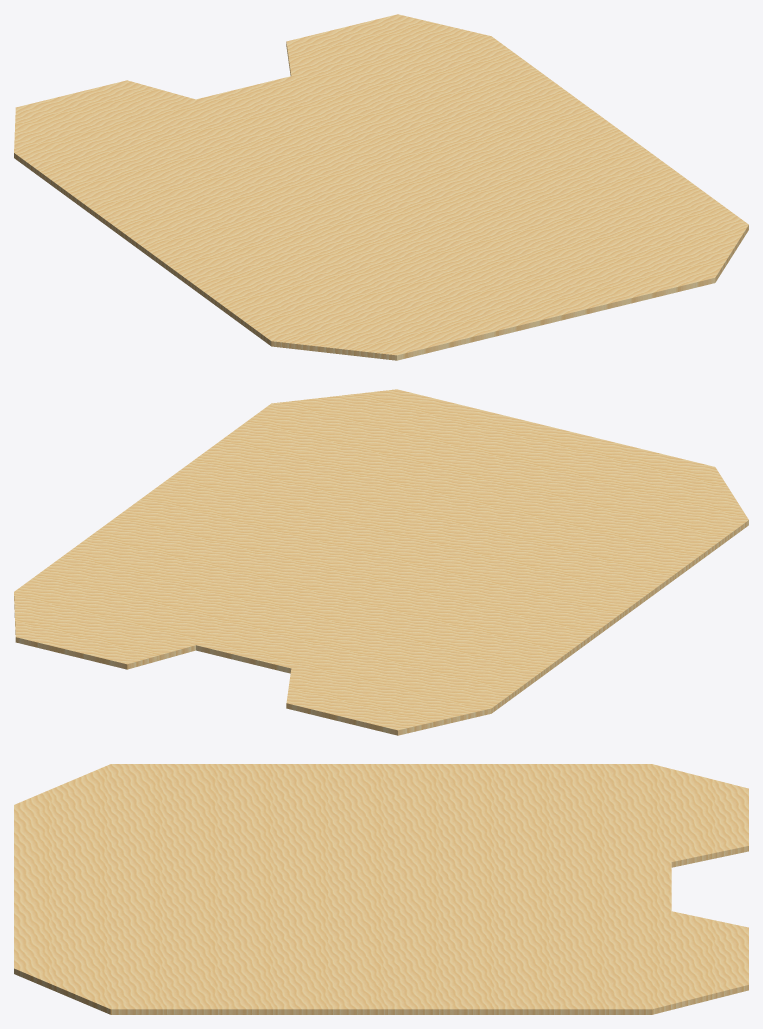
The model's file is seabed-09-vynSPUG_.glb.
3 renders of one model, top to bottom at view 1: azimuth 30°, elevation 25°; view 2: azimuth 150°, elevation 25°; view 3: azimuth 270°, elevation 25°, orthographic. The views are drawn at different scales.
Parts seen in each view (by area): view 1: SW_SandShelf; view 2: SW_SandShelf; view 3: SW_SandShelf.
Boxes of the visible parts, box(x1,y1,x2,y2) form: SW_SandShelf: box(14, 14, 748, 360); SW_SandShelf: box(14, 389, 748, 735); SW_SandShelf: box(14, 764, 748, 1014).
Size of what is drawn, in the model's own units: 30 by 0.32 by 38.
Materials: 1 (1 with a texture image).
